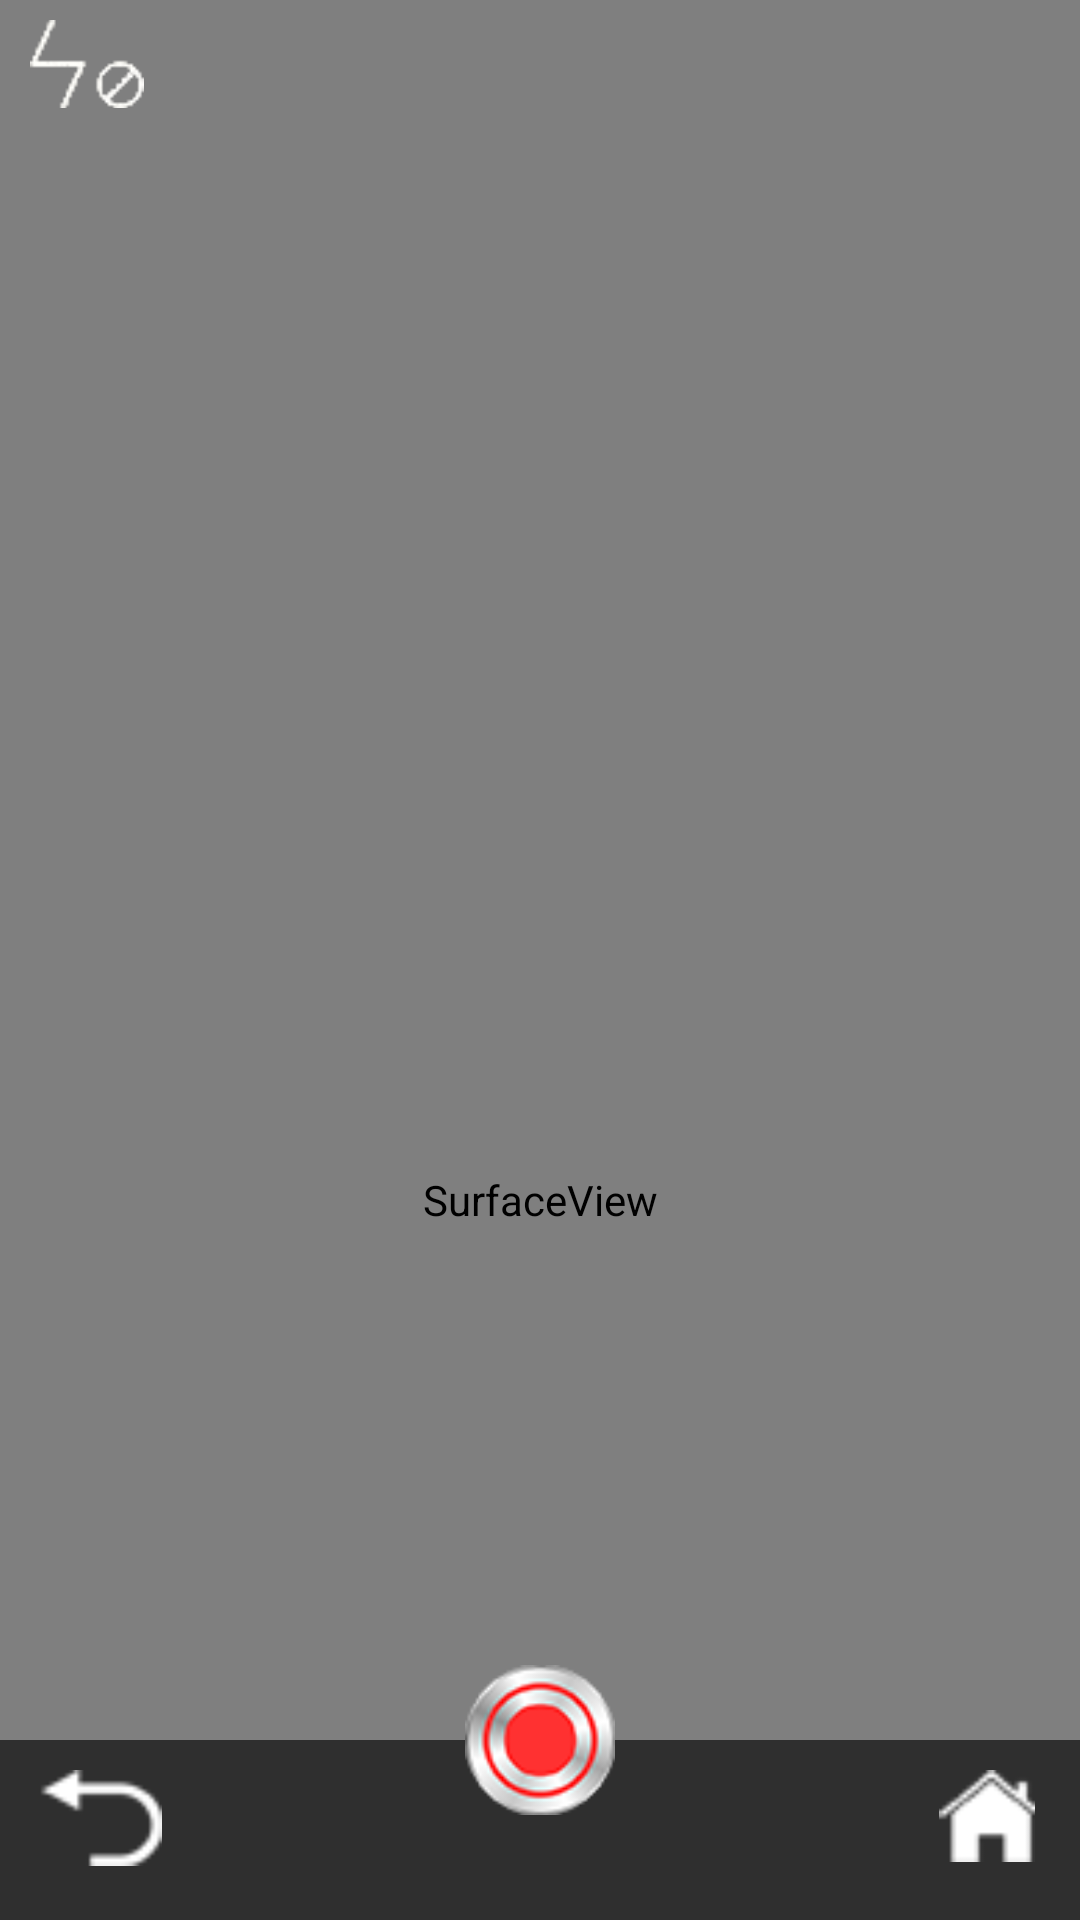

Locate icon controls on the screen. Image size 1080px×1920px, boxes as {"left": x1, "top": y1, "right": x2, "bottom": y2}.
flash of: {"left": 30, "top": 20, "right": 144, "bottom": 108}
home: {"left": 939, "top": 1770, "right": 1035, "bottom": 1862}
retrun: {"left": 41, "top": 1770, "right": 162, "bottom": 1866}
